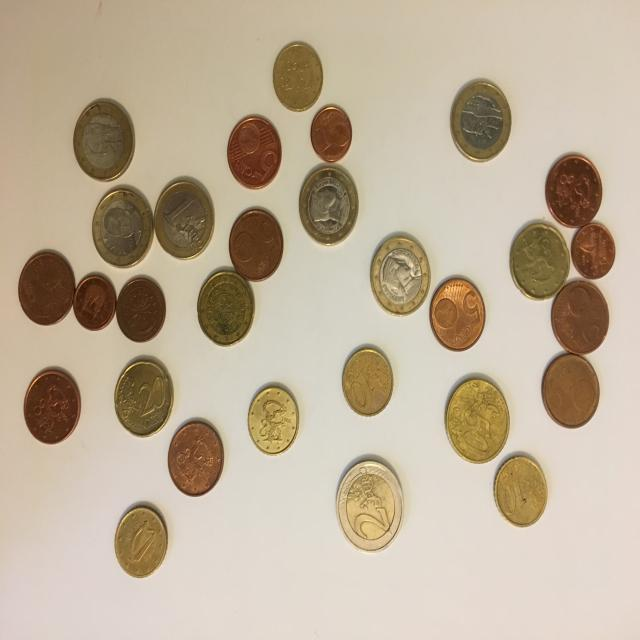10c: (491, 451, 557, 537), (109, 505, 174, 581), (245, 383, 302, 460), (338, 345, 394, 419), (272, 41, 324, 112)
1c: (570, 216, 616, 282), (310, 103, 358, 166)
1e: (69, 96, 138, 185), (296, 162, 364, 248), (448, 78, 514, 164), (152, 178, 218, 262), (368, 234, 434, 318), (92, 188, 154, 268)
20c: (505, 218, 571, 300), (111, 357, 178, 436), (196, 268, 256, 350)
2c: (115, 275, 167, 348)
2e: (335, 456, 406, 553), (72, 273, 119, 333)
50c: (442, 370, 516, 464)
5c: (20, 363, 85, 450), (548, 274, 612, 358), (165, 416, 227, 501), (14, 248, 78, 330), (540, 352, 602, 434), (226, 204, 286, 284), (544, 152, 602, 234), (427, 274, 487, 352), (225, 109, 283, 188)
